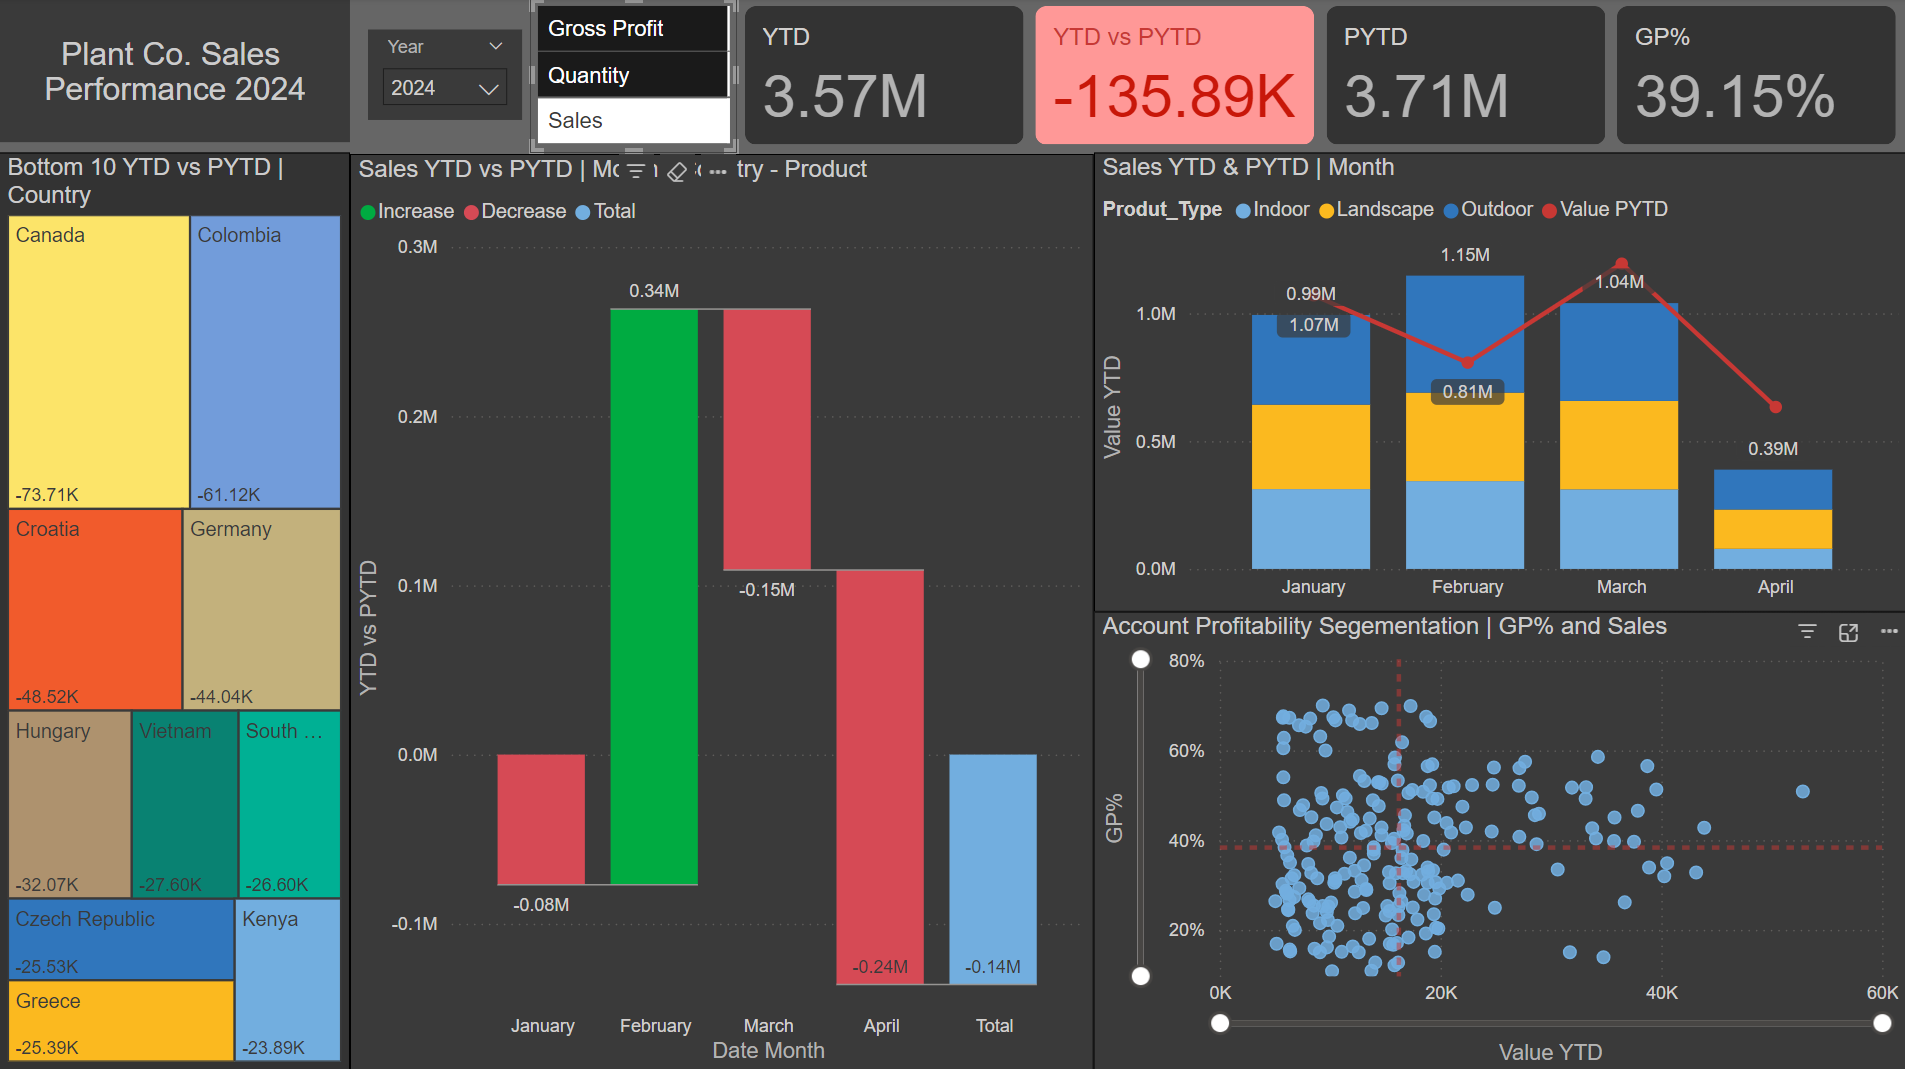

The dashboard page shown, as its layout file describes it:
{"tool":"powerbi","page":{"name":"Performance Report","canvas":[1280,720],"ordinal":0},"visuals":[{"type":"cardVisual","fields":{"Data":["_Measures.S_YTD","_Measures.YTD vs PYTD","_Measures.S_PYTD","_Measures.GP%"]},"box":[494.8,0,785.6,103.1],"z":0},{"type":"advancedSlicerVisual","fields":{"Values":["Slc_Values.Values"]},"box":[355.7,0,139,103.1],"z":1000},{"type":"slicer","fields":{"Values":["Dim_Date.Date.Variation.Date Hierarchy.Year"]},"box":[247.3,21.3,103.3,60.7],"z":2000},{"type":"treemap","title":"Bottom 10 YTD vs PYTD | Country","fields":{"Group":["Dim_Account.country"],"Values":["_Measures.YTD vs PYTD"]},"box":[0,103.6,235.4,615.5],"z":3000},{"type":"waterfallChart","fields":{"Y":["_Measures.YTD vs PYTD"],"Category":["Dim_Date.Date.Variation.Date Hierarchy.Month","Dim_Account.country","Dim_Product.Produt_Type","Dim_Product.Product_Name"]},"box":[235.4,104.6,498.9,615.5],"z":4000},{"type":"lineStackedColumnComboChart","fields":{"Y":["_Measures.S_YTD"],"Y2":["_Measures.S_PYTD"],"Category":["Dim_Date.Date.Variation.Date Hierarchy.Quarter","Dim_Date.Date.Variation.Date Hierarchy.Month"],"Series":["Dim_Product.Produt_Type"]},"box":[734.6,103.1,545.8,308.2],"z":5000},{"type":"scatterChart","fields":{"Y":["_Measures.GP%"],"X":["_Measures.S_YTD"],"Category":["Dim_Account.Account"]},"box":[734.6,411.3,545.8,308.2],"z":6000},{"type":"card","fields":{"Values":["_Measures._Report title"]},"box":[0,0,235.4,96.6],"z":7000}]}

Visuals, with their boxes in screenshot pixels (x1, y1, x2, y2), scaled from the page's 1280x720 canvas onto the 1905x1069 screenshot:
cardVisual - _Measures.S_YTD x _Measures.YTD vs PYTD: l=736, t=0, r=1904, b=153
advancedSlicerVisual - Slc_Values.Values: l=529, t=0, r=736, b=153
slicer - Dim_Date.Date.Variation.Date Hierarchy.Year: l=368, t=32, r=522, b=122
"Bottom 10 YTD vs PYTD | Country" treemap: l=0, t=154, r=350, b=1068
waterfallChart - _Measures.YTD vs PYTD x Dim_Date.Date.Variation.Date Hierarchy.Month: l=350, t=155, r=1093, b=1068
lineStackedColumnComboChart - _Measures.S_YTD x _Measures.S_PYTD: l=1093, t=153, r=1904, b=611
scatterChart - _Measures.GP% x _Measures.S_YTD: l=1093, t=611, r=1904, b=1068
card - _Measures._Report title: l=0, t=0, r=350, b=143
